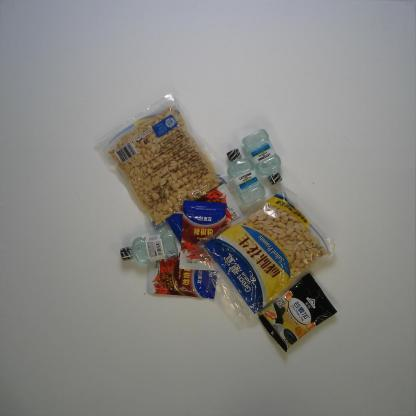Dried Fruit: (90, 92, 236, 235), (193, 186, 336, 329)
Instant Drink: (258, 272, 338, 352)
Personal Hygiene: (240, 128, 283, 186), (226, 148, 266, 206), (119, 231, 179, 265)
Seasoner: (165, 182, 244, 245), (178, 200, 228, 272), (146, 256, 218, 300)
